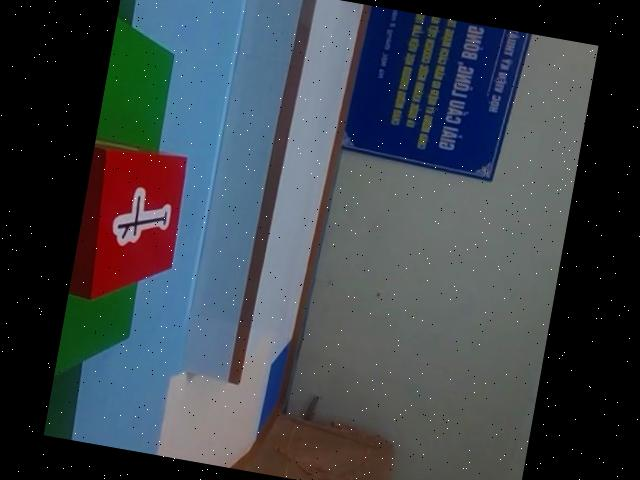R2 Real: (67, 138, 191, 311)
